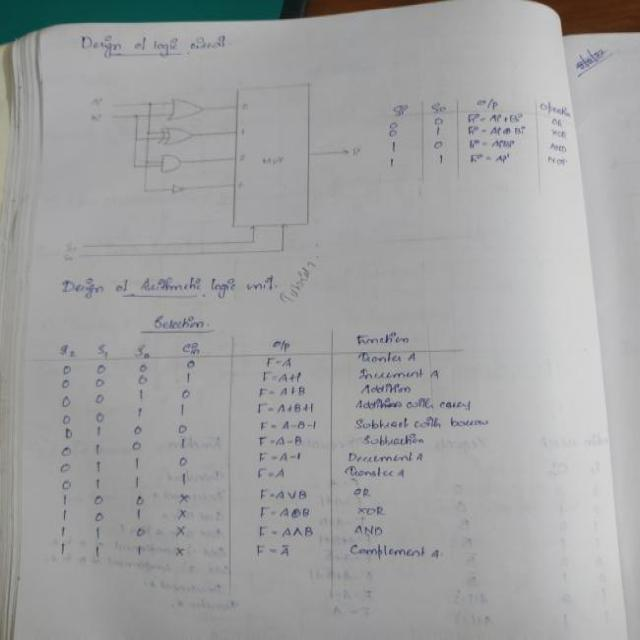Figure Detection - v3 Dataset Version2: (65, 84, 358, 269)
